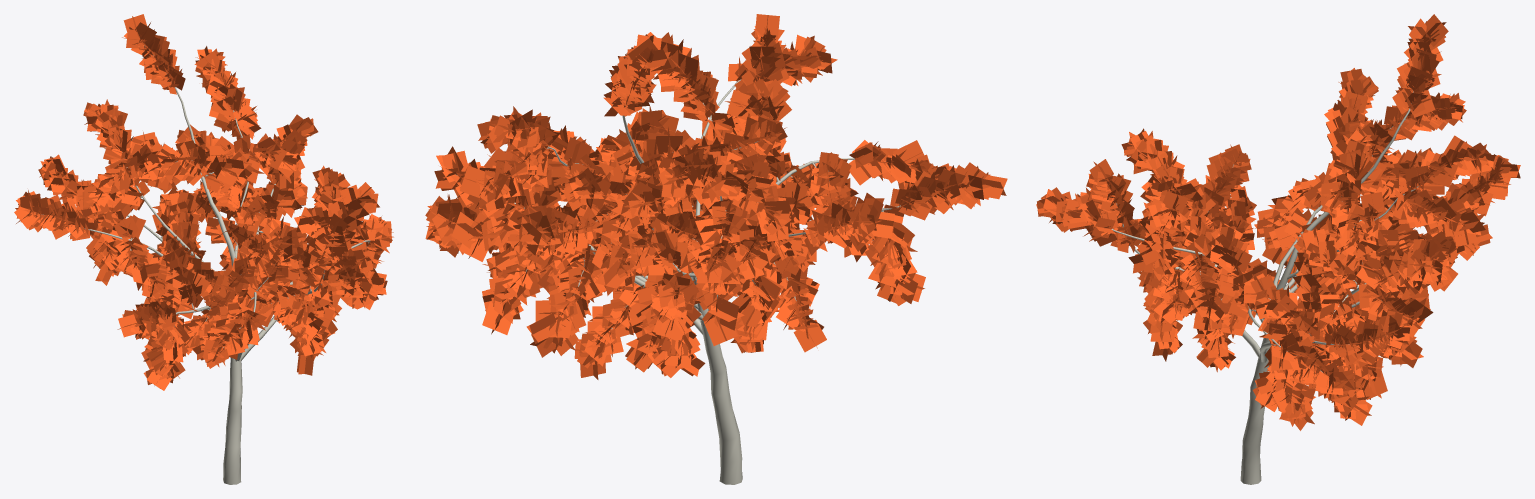
Rendered from jmaple.glb.
3 views of the same model, side by side, from view 1: azimuth 30°, elevation 25°; view 2: azimuth 150°, elevation 25°; view 3: azimuth 270°, elevation 25° (orthographic). The views are drawn at different scales.
Parts seen in each view (by area): view 1: leaves, branches; view 2: leaves, branches; view 3: leaves, branches.
Boxes of the visible parts, left/top/right/bottom form: leaves: left=14, top=14, right=393, bottom=390; branches: left=41, top=45, right=370, bottom=484; leaves: left=425, top=14, right=1007, bottom=379; branches: left=456, top=79, right=900, bottom=484; leaves: left=1036, top=14, right=1520, bottom=430; branches: left=1111, top=91, right=1418, bottom=484.
Size of the model in its own units: 37.12 by 39.18 by 37.69.
